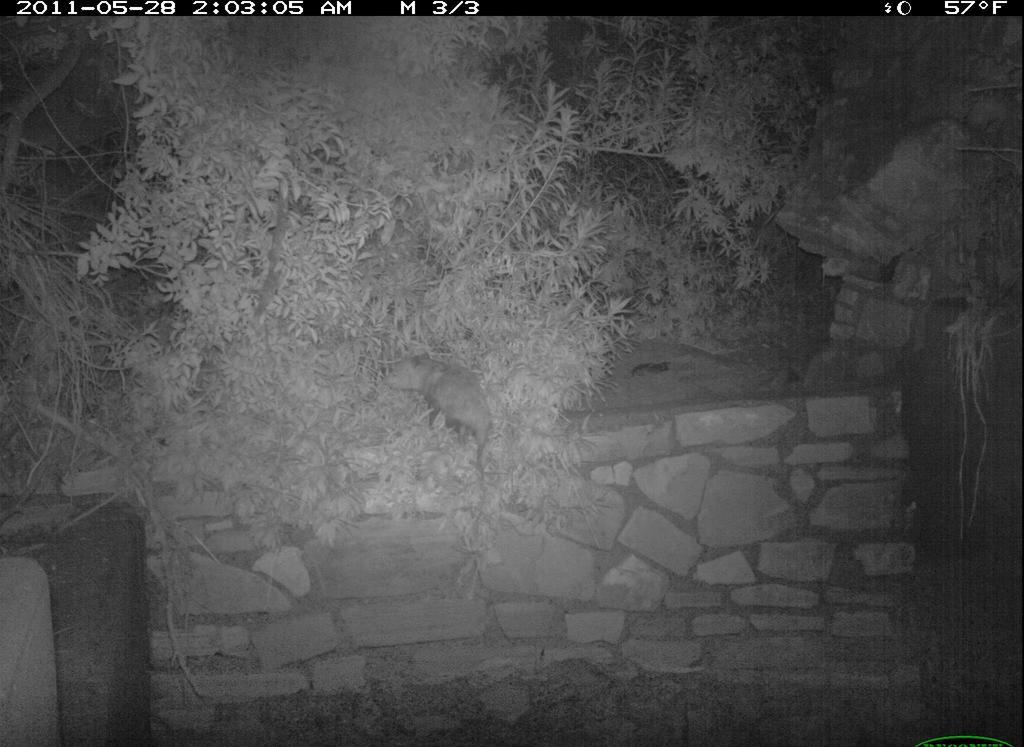opossum: (373, 346, 513, 496)
